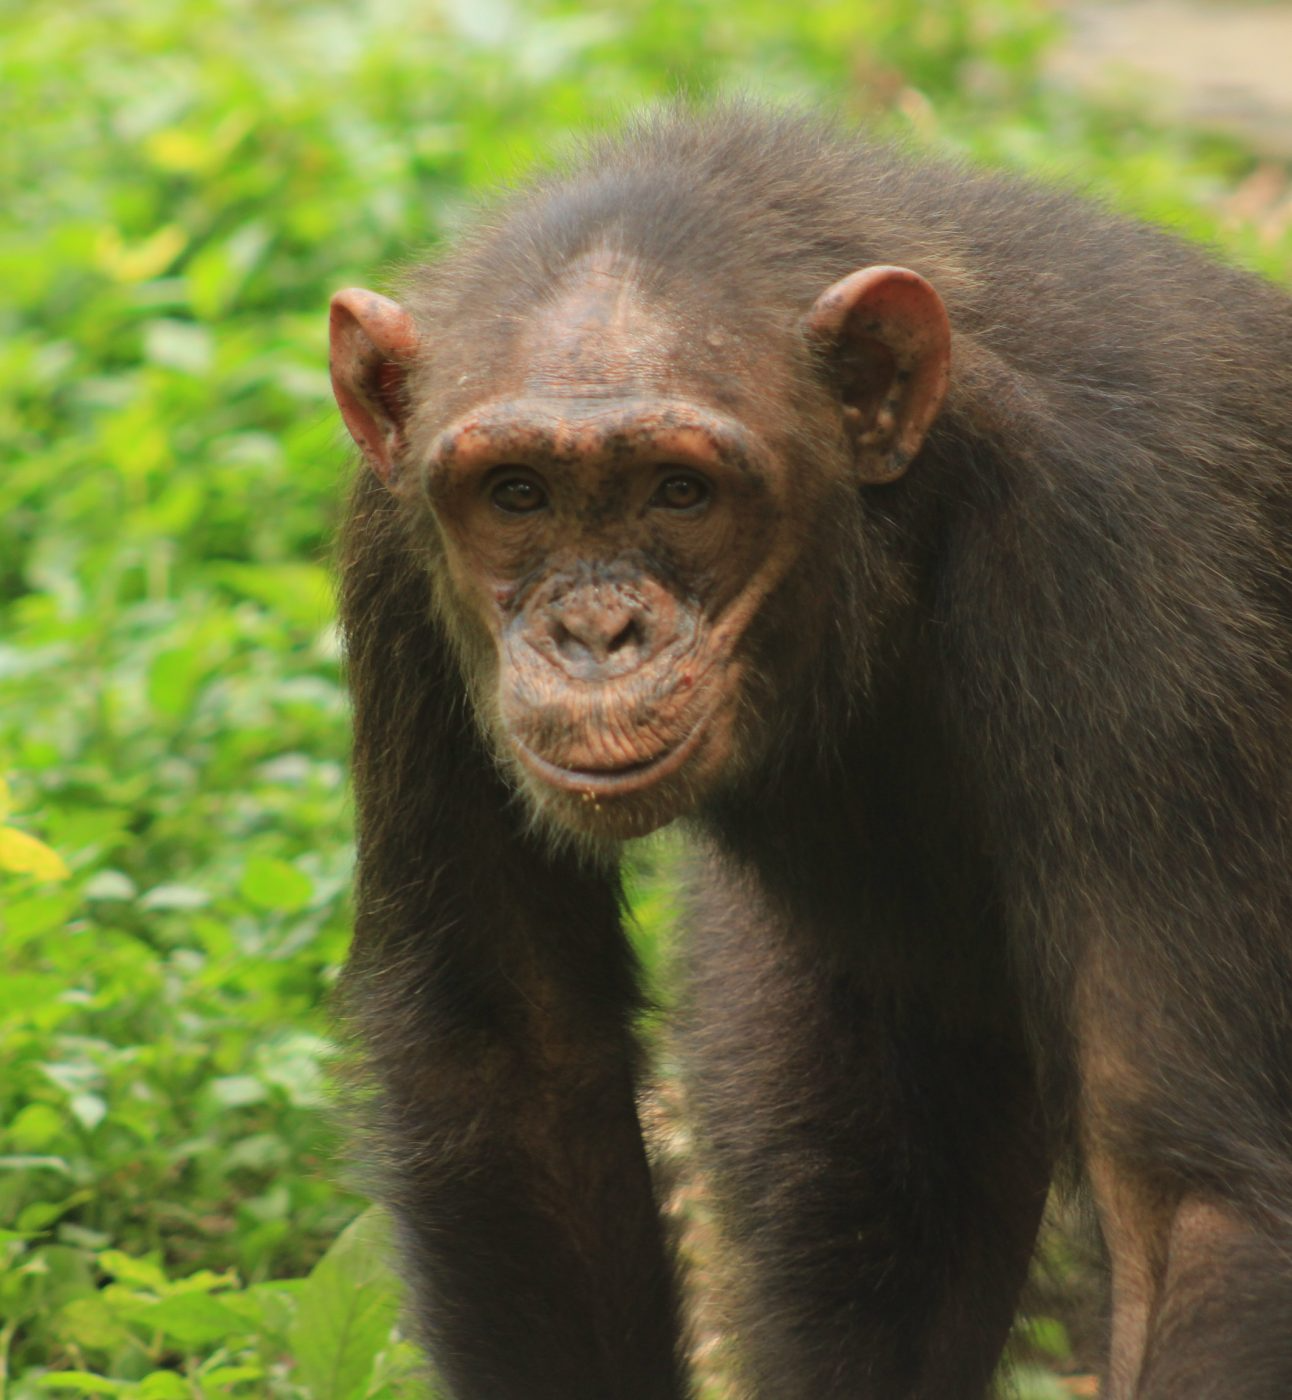Champanze: (294, 183, 1002, 859)
